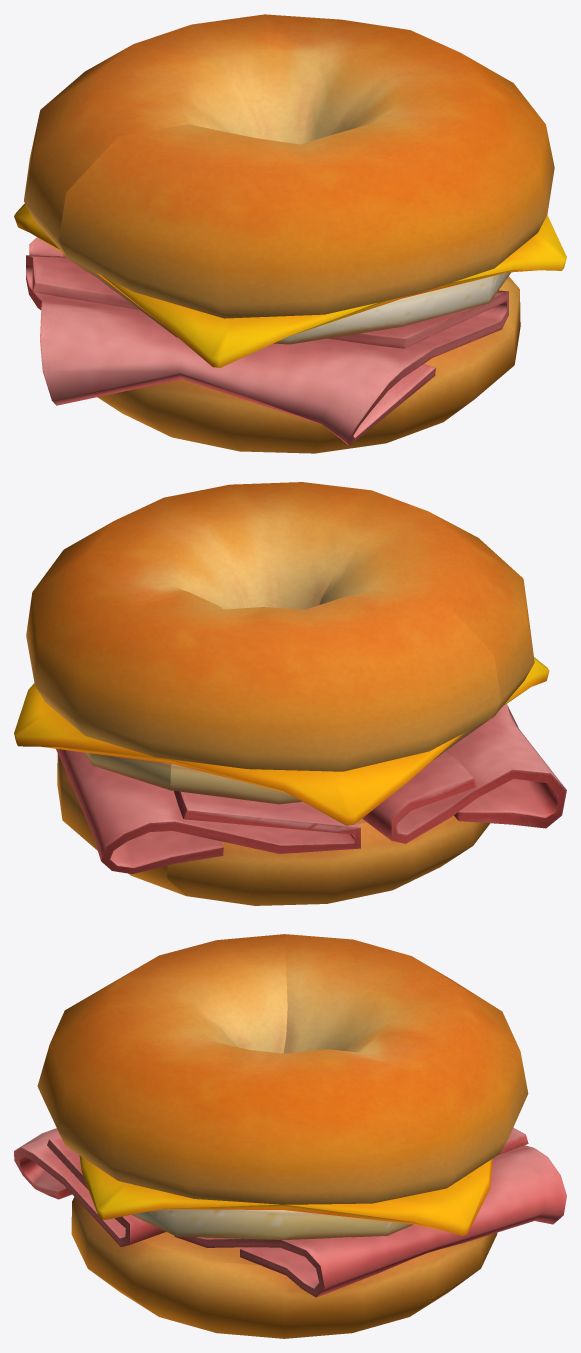
Rendered from Bagel_1.fbx.
The picture shows the model from 3 angles, top to bottom: view 1: azimuth 30°, elevation 25°; view 2: azimuth 150°, elevation 25°; view 3: azimuth 270°, elevation 25°; orthographic projection. The views are drawn at different scales.
Parts seen in each view (by area): view 1: Bagel_1; view 2: Bagel_1; view 3: Bagel_1.
Part boxes in pixels (bbox=[...]): Bagel_1: bbox=[14, 14, 566, 453]; Bagel_1: bbox=[14, 482, 566, 905]; Bagel_1: bbox=[14, 934, 566, 1338].
Bounding box in the file's own units: 51.85 × 27.53 × 53.75.
1 material, 1 textured.
